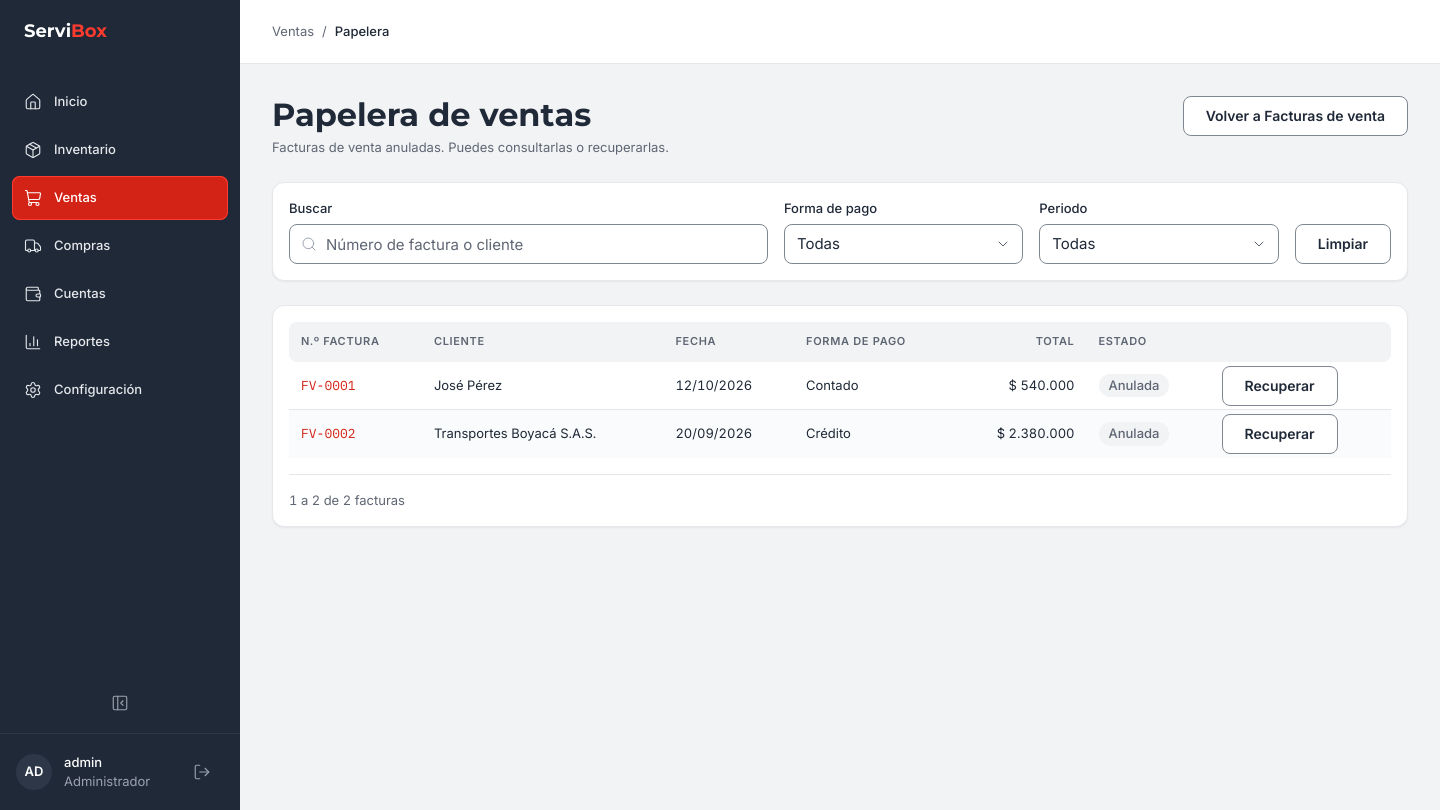
papelera de ventas › recuperar: foco en Cancelar, una sola peticion, toast y la factura sale de la papelera
Click the button with aria-label "Recuperar factura FV-0001": click(1280, 386) [1222,366,1338,406]
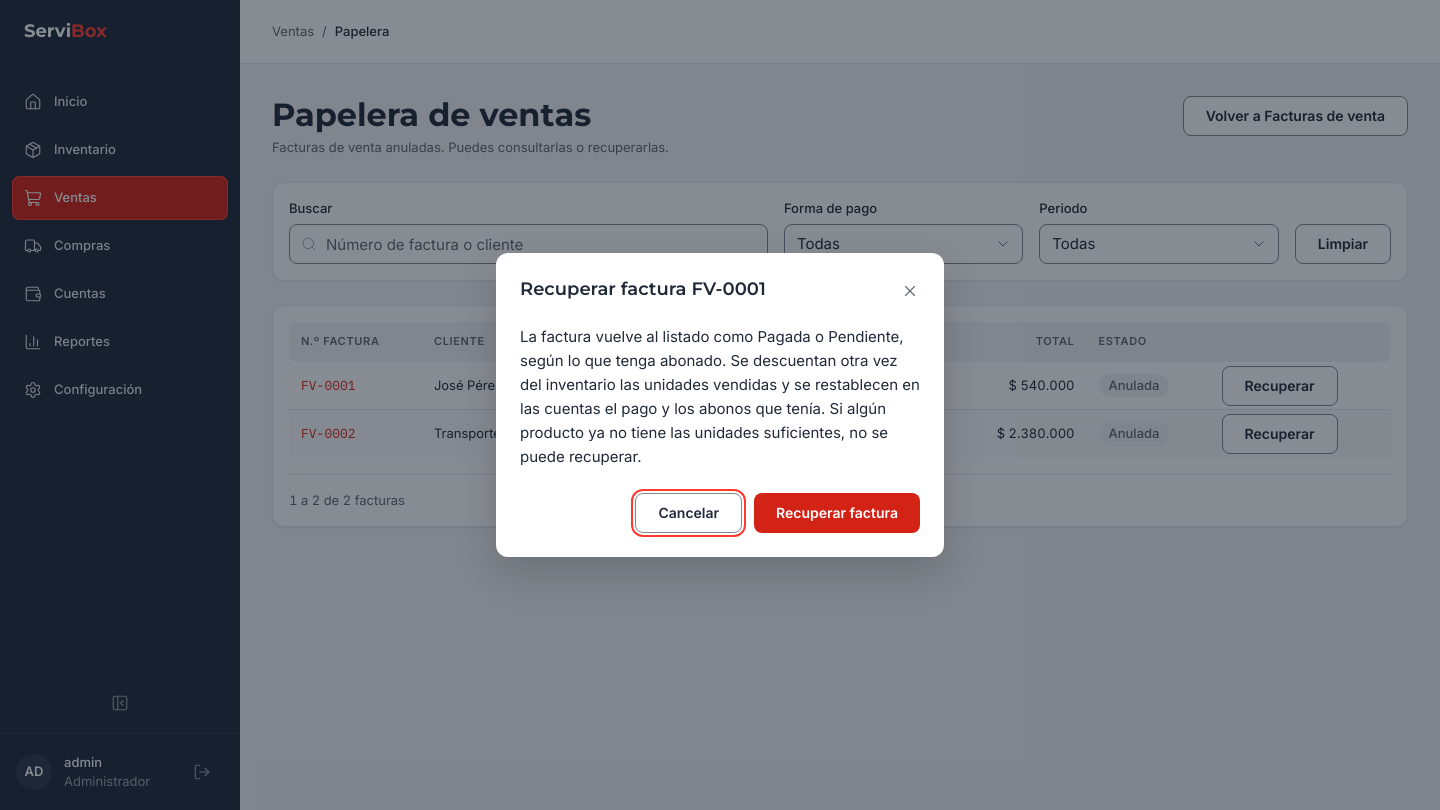
Check: the dialog "Recuperar factura FV-0001" shows "La factura vuelve al listado como Pagada o Pendiente, según lo que tenga abonado. Se descuentan otra vez del inventario las unidades vendidas y se restablecen e", box [520,327,920,466]
Press Escape
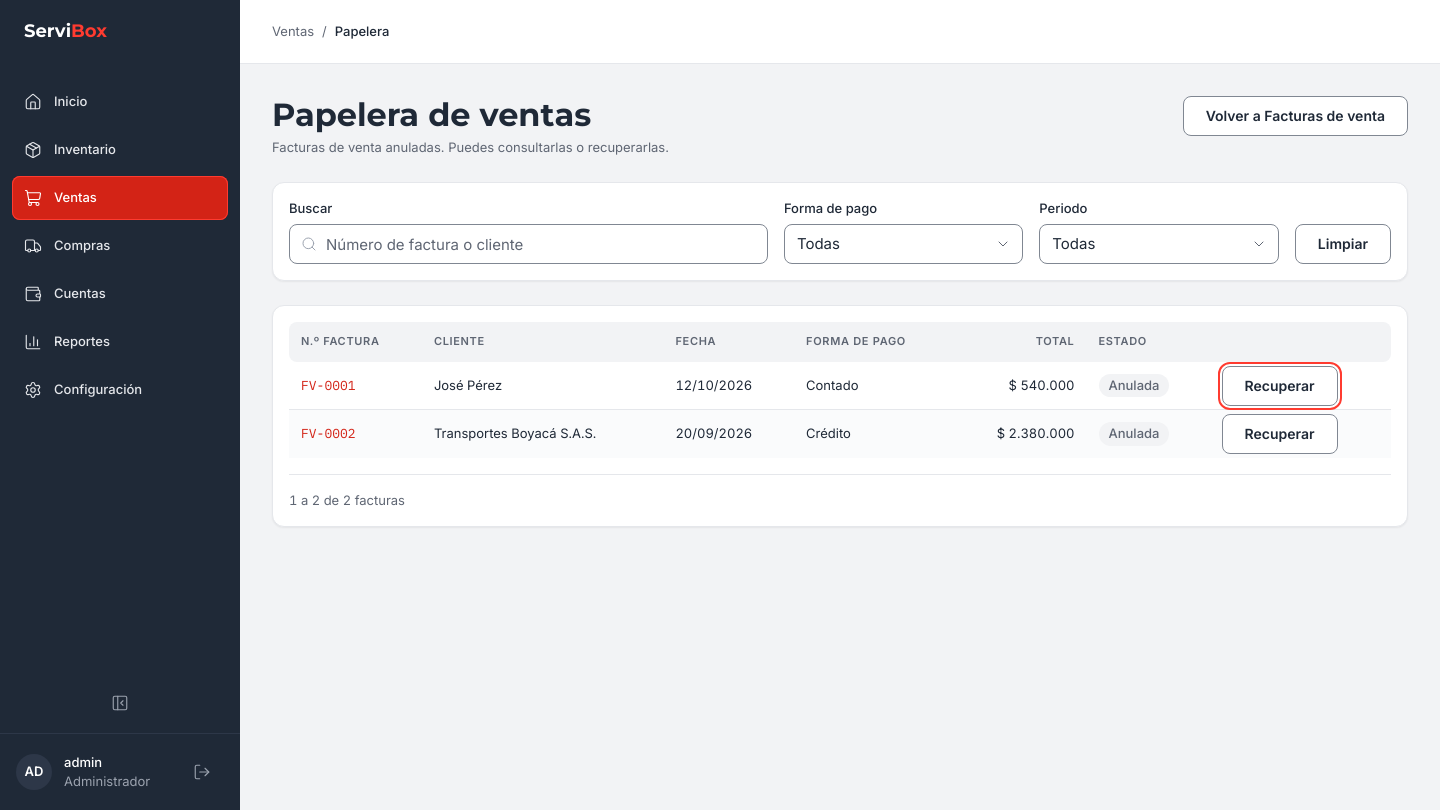
Check: the dialog is gone
Click the button with aria-label "Recuperar factura FV-0001": click(1280, 386) [1222,366,1338,406]
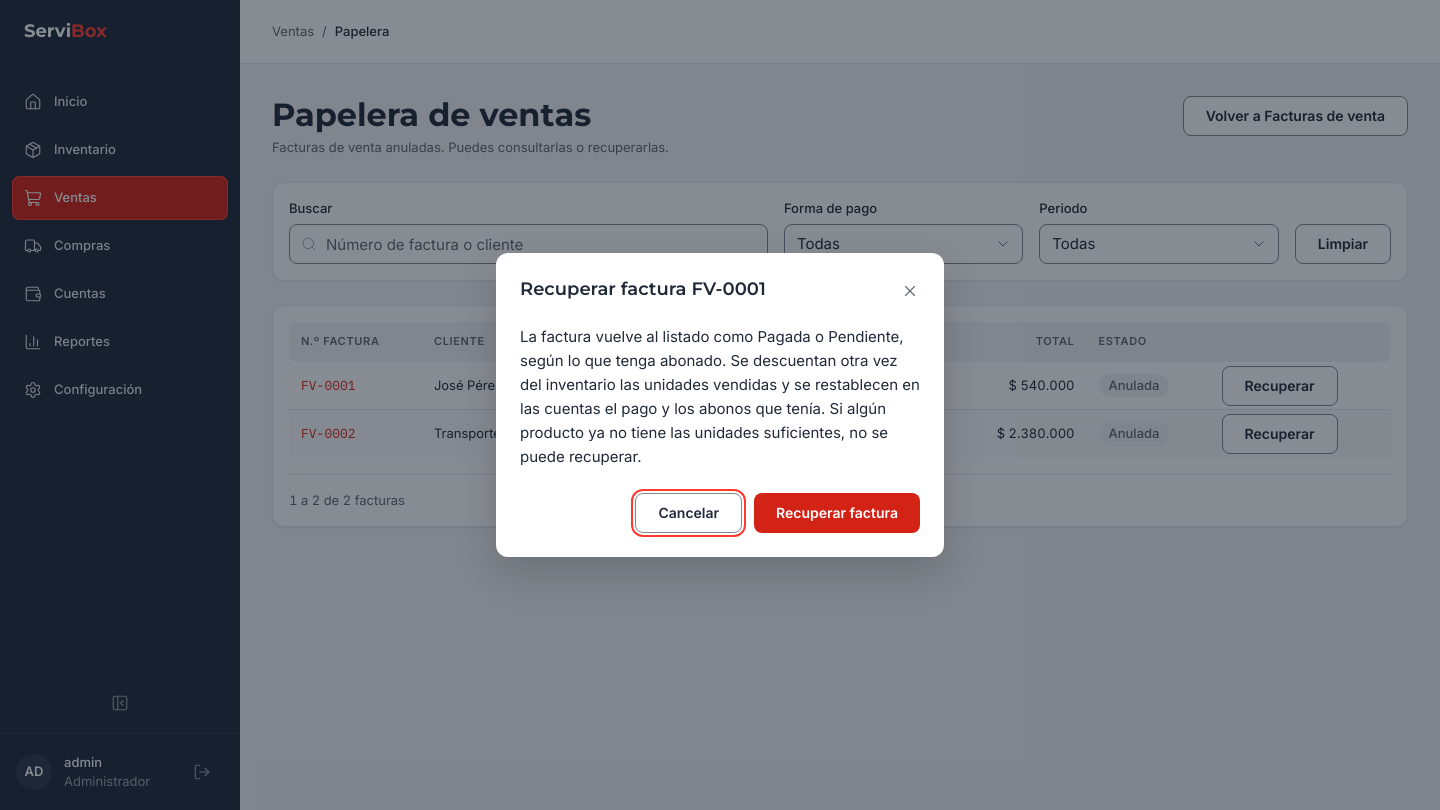
Double-click the button "Recuperar factura": (837, 513) [754,493,920,533]
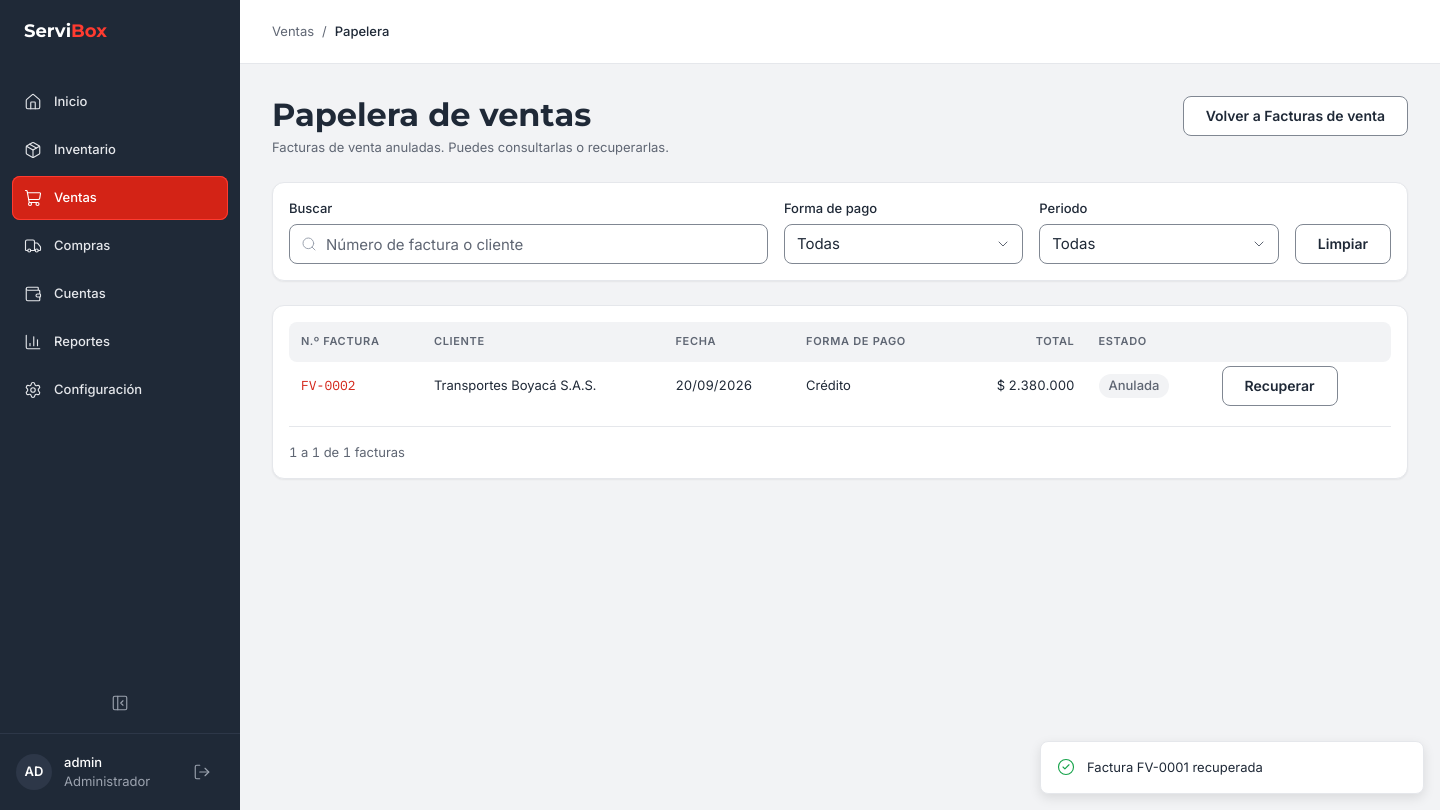
Check: the dialog is gone
Check: the text "Factura FV-0001 recuperada" is shown, box [1087,758,1263,777]
